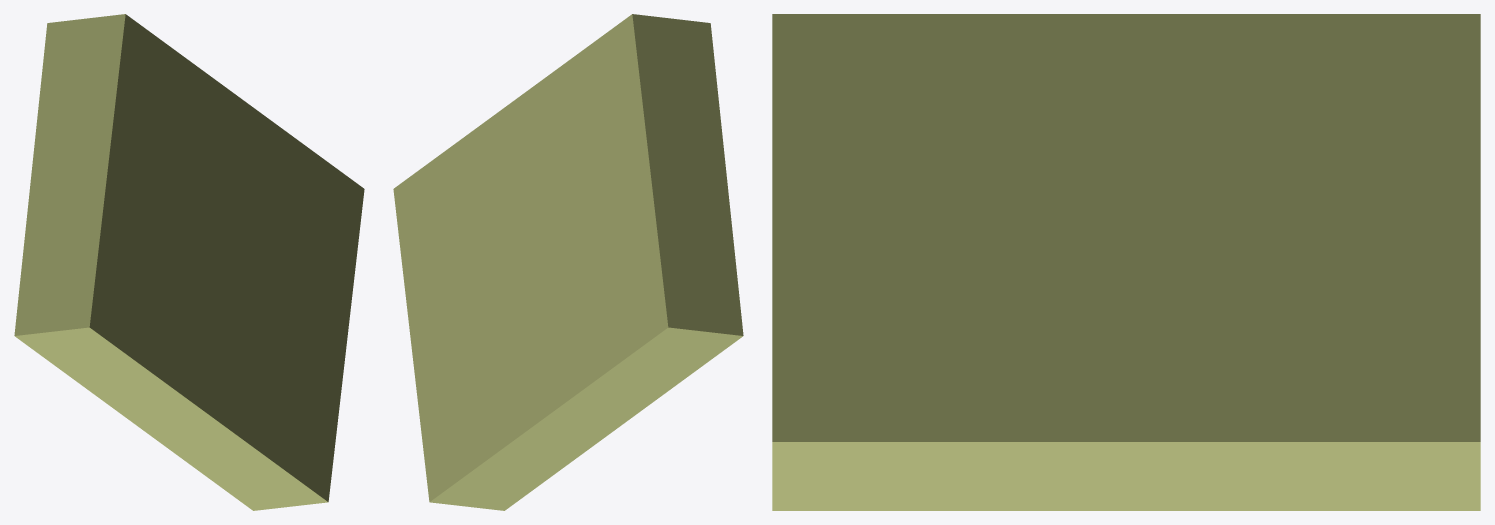
The picture shows the model from 3 angles, left to right: view 1: azimuth 30°, elevation 25°; view 2: azimuth 150°, elevation 25°; view 3: azimuth 270°, elevation 25°; orthographic projection. The views are drawn at different scales.
Parts seen in each view (by area): view 1: 0_1_2_0_3_3_1_2_0_1_3_0; view 2: 0_1_2_0_3_3_1_2_0_1_3_0; view 3: 0_1_2_0_3_3_1_2_0_1_3_0.
Part boxes in pixels (bbox=[...]): 0_1_2_0_3_3_1_2_0_1_3_0: bbox=[14, 14, 364, 510]; 0_1_2_0_3_3_1_2_0_1_3_0: bbox=[393, 14, 743, 510]; 0_1_2_0_3_3_1_2_0_1_3_0: bbox=[772, 14, 1480, 510].
Bounding box in the file's own units: 1.61 × 4.36 × 6.
